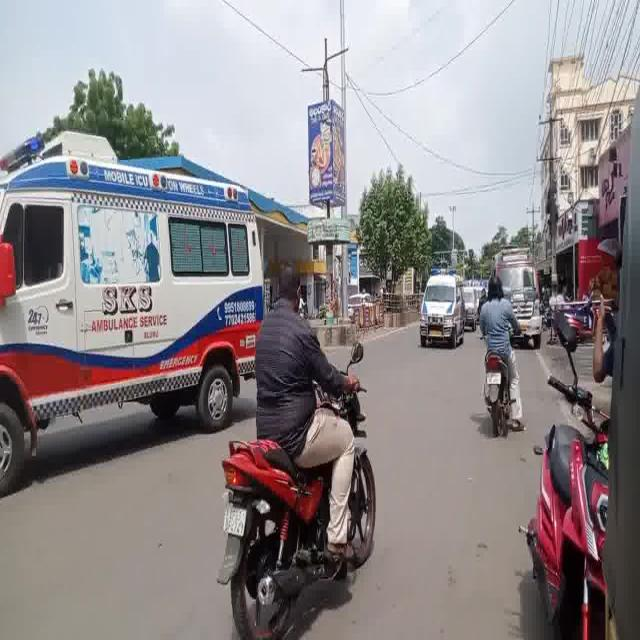ambulance: (0, 169, 265, 454), (498, 230, 546, 355), (411, 268, 469, 350)
